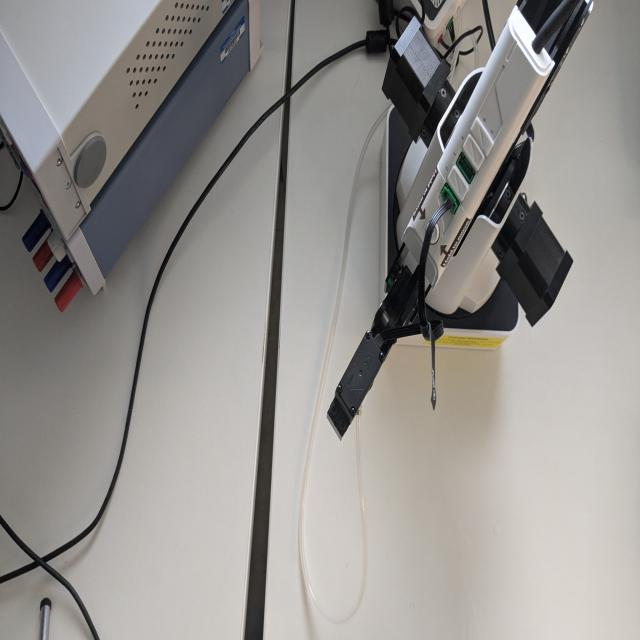Robot-end-effector-HF8z: (325, 326, 387, 445)
